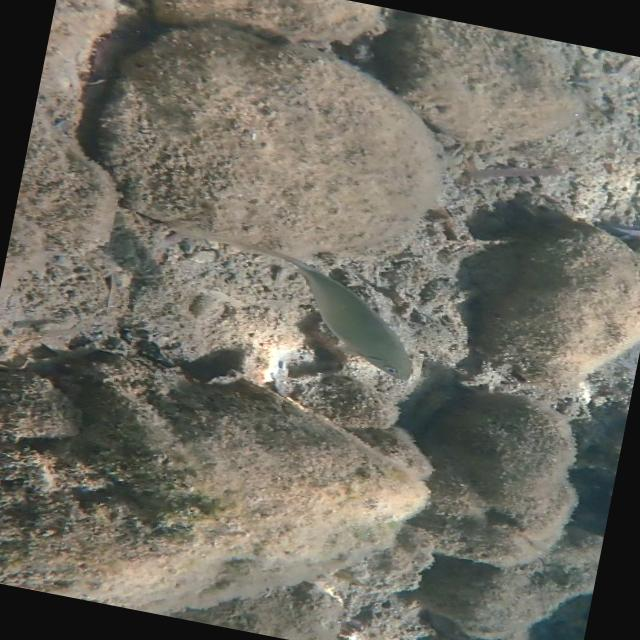Sokar Baligi: (196, 222, 443, 388)
